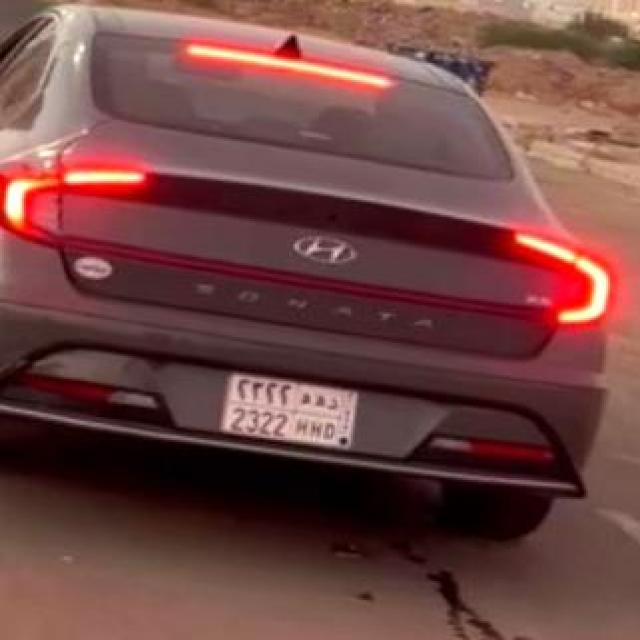Car-plate: (214, 349, 369, 459)
